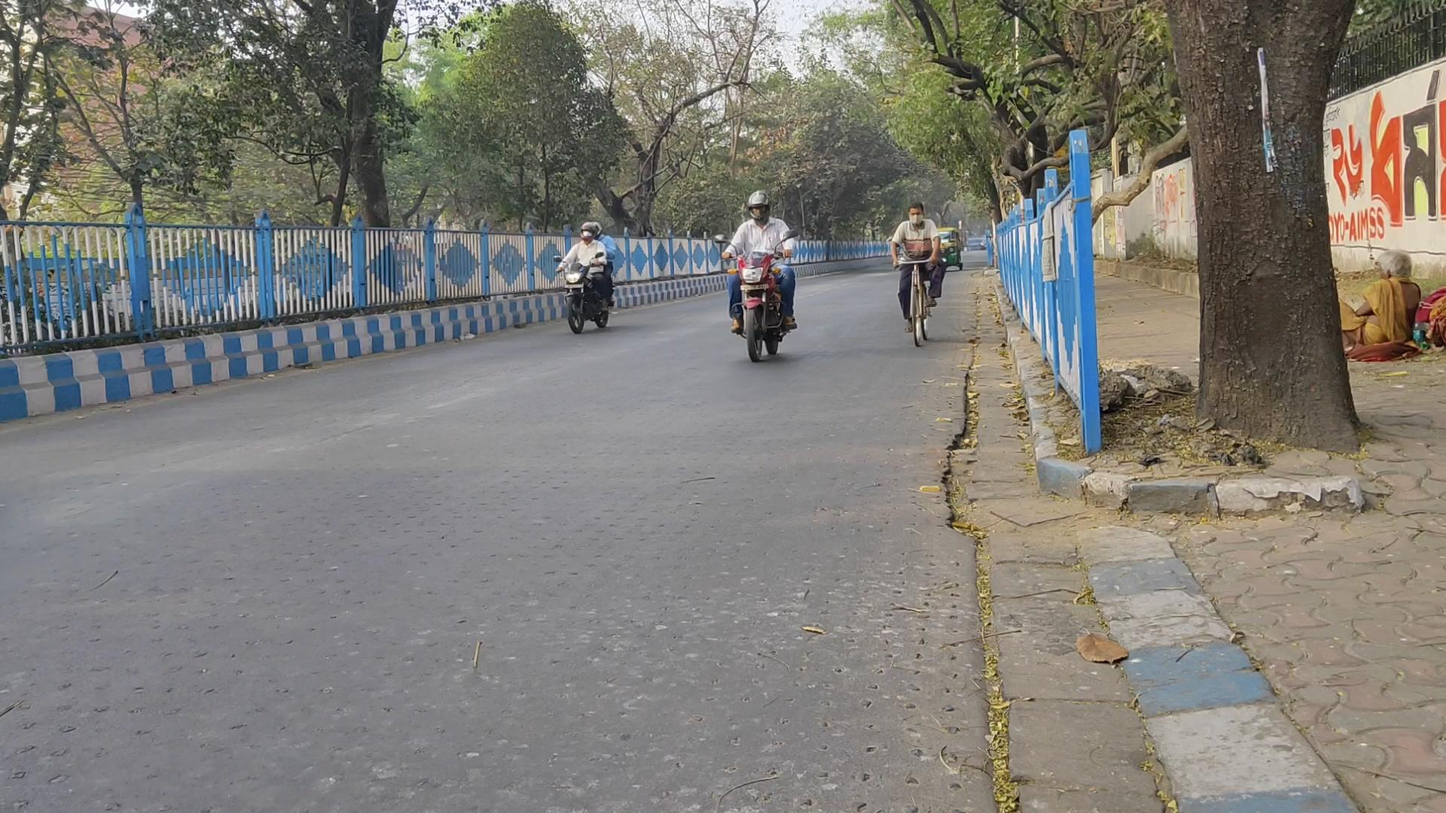Auto: (936, 226, 964, 272)
bike: (713, 190, 798, 363), (889, 201, 944, 346), (552, 220, 618, 334)
